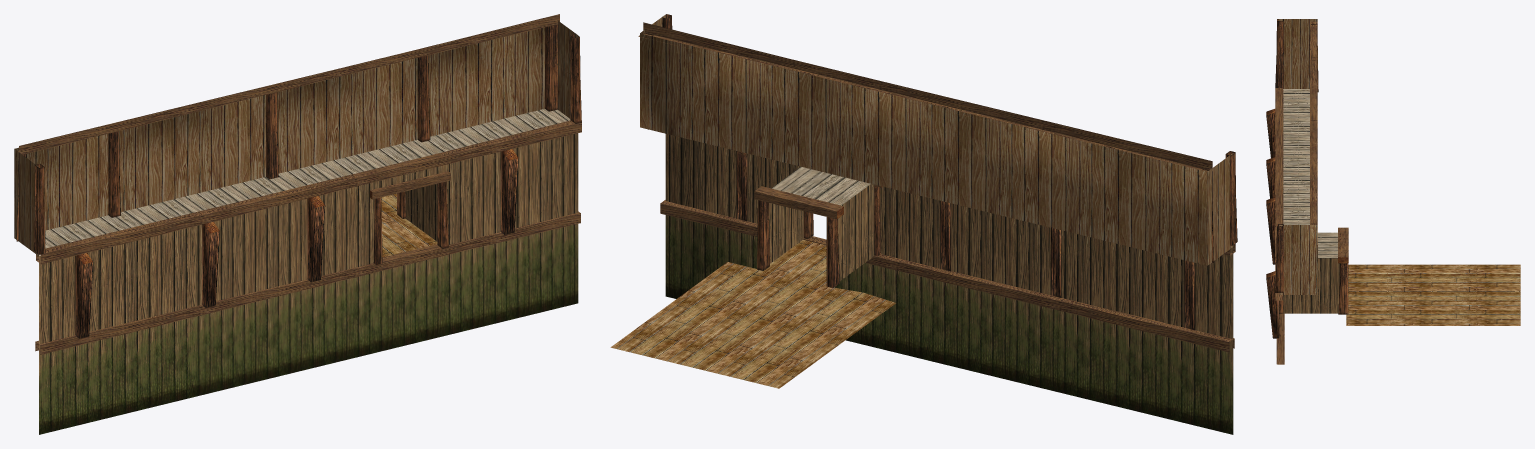
Rendered from LAKETOWN_WAREHOUSE2_PS_WH2_SIDEWALL88477__GX.fbx.
3 views of the same model, side by side, from view 1: azimuth 30°, elevation 25°; view 2: azimuth 150°, elevation 25°; view 3: azimuth 270°, elevation 25° (orthographic). The views are drawn at different scales.
Visible parts, largest first — view 1: LAKETOWN_WAREHOUSE2_PS_WH2_SIDEWALL88477__GX; view 2: LAKETOWN_WAREHOUSE2_PS_WH2_SIDEWALL88477__GX; view 3: LAKETOWN_WAREHOUSE2_PS_WH2_SIDEWALL88477__GX.
Boxes of the visible parts, x1,y1,x2,y2 form: LAKETOWN_WAREHOUSE2_PS_WH2_SIDEWALL88477__GX: (14, 14, 581, 434); LAKETOWN_WAREHOUSE2_PS_WH2_SIDEWALL88477__GX: (610, 14, 1237, 434); LAKETOWN_WAREHOUSE2_PS_WH2_SIDEWALL88477__GX: (1266, 19, 1520, 364).
Size of the model in its own units: 226654 by 109530 by 117524.
11 materials, 11 textured.
